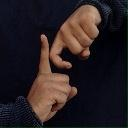hand: (26, 33, 77, 123), (49, 4, 101, 69)
